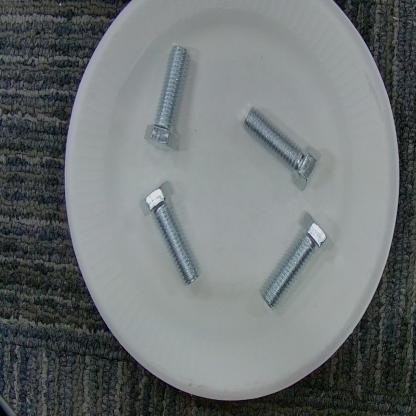FOD: (237, 98, 337, 199), (260, 206, 329, 328), (139, 40, 202, 164), (139, 183, 206, 287)
